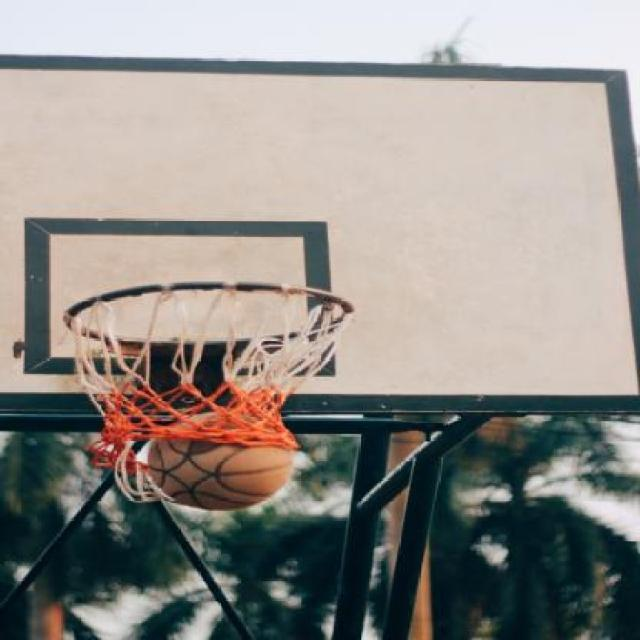basketball: (149, 412, 295, 512)
rim: (66, 278, 354, 442)
